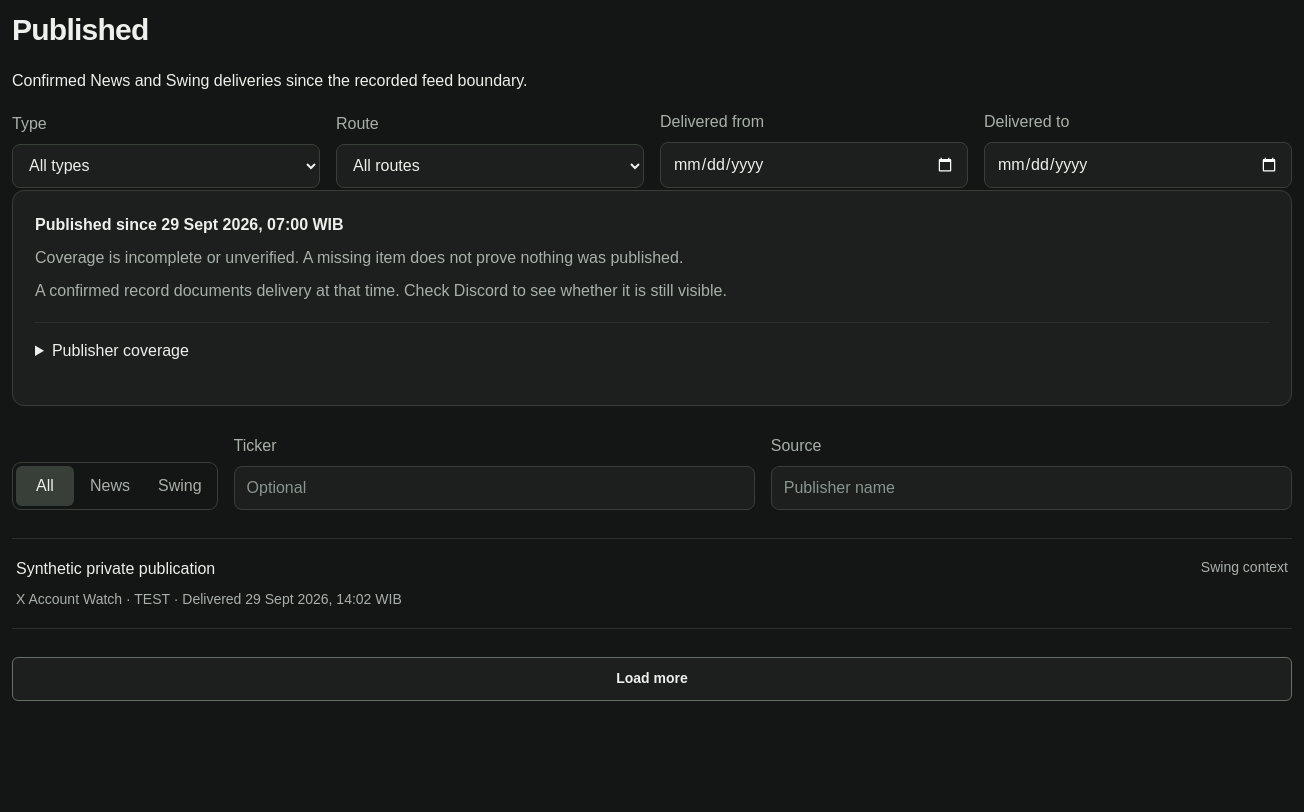
clears loaded publications and coverage after auth on the next page
Expected: the text "Synthetic private publication" is shown, x1=16 y1=557 x2=215 y2=581
Click the button "Load more".
click(652, 679)  # box x1=12 y1=657 x2=1292 y2=701
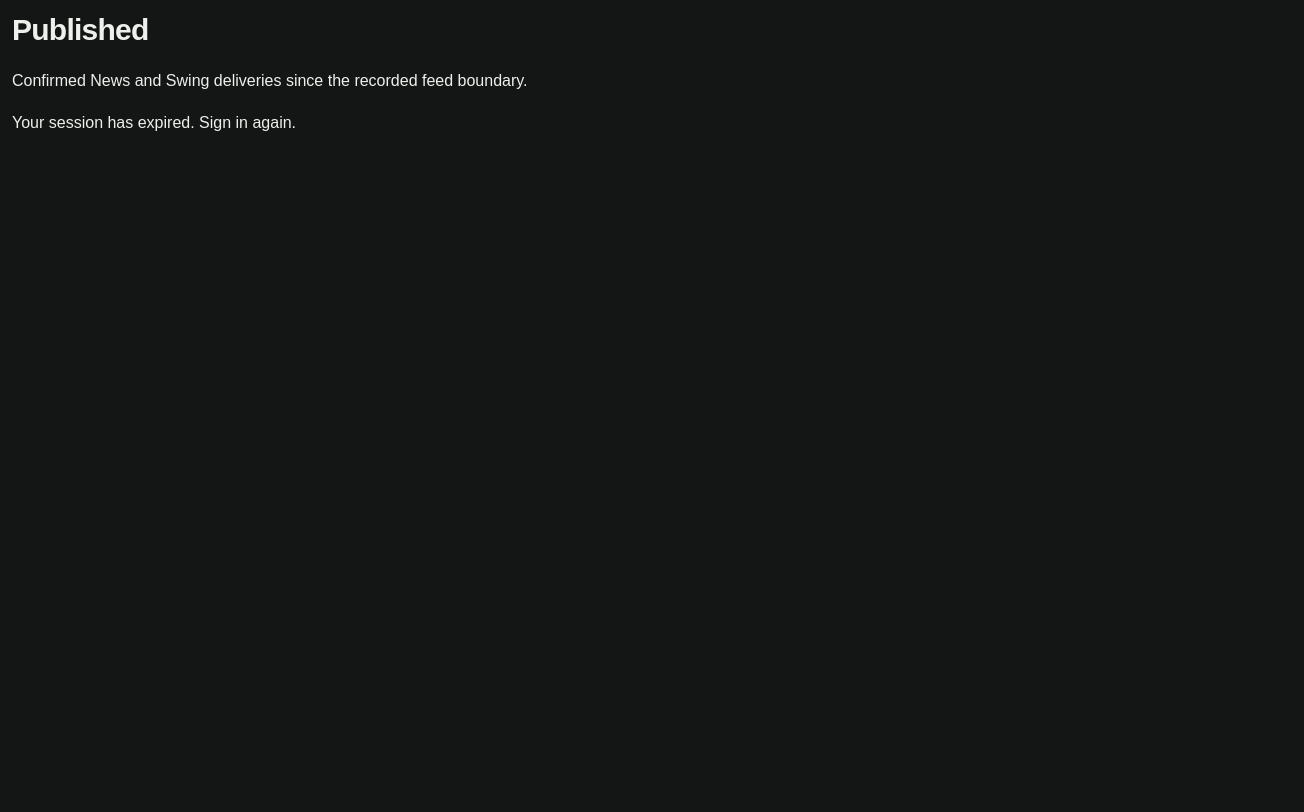
Expected: the button "Synthetic private publication" is gone
Expected: the heading "Publisher coverage" is gone
Expected: the button "Load more" is gone
